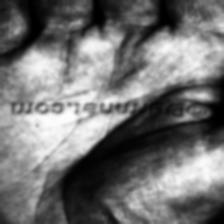Unclassified: (6, 0, 224, 96), (0, 121, 198, 201)
